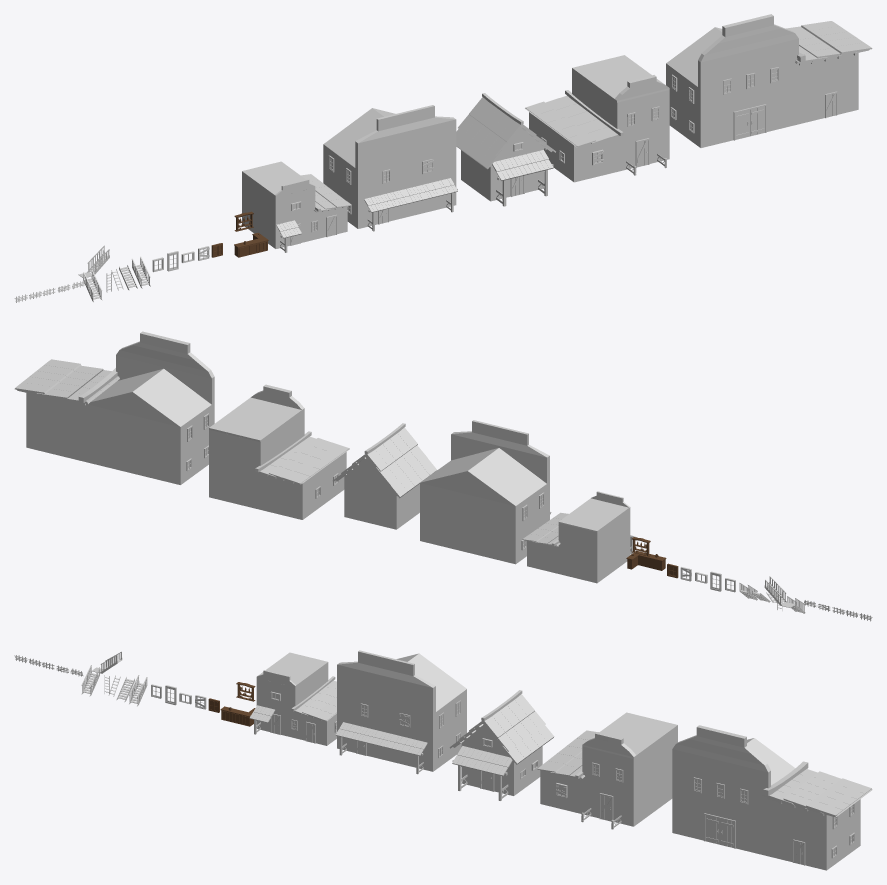
File: modelos cowboy semana 1 - luana.fbx
The picture shows the model from 3 angles, top to bottom: view 1: azimuth 30°, elevation 25°; view 2: azimuth 150°, elevation 25°; view 3: azimuth 330°, elevation 25°; orthographic projection. The views are drawn at different scales.
Parts seen in each view (by area): view 1: casa.004, casa.001, casa.003, casa.002, casa, bar, escada dupla; view 2: casa.004, casa.001, casa.003, casa, casa.002, bar, escada dupla; view 3: casa.004, casa.001, casa.003, casa.002, casa, bar, escada dupla.
Part boxes in pixels (left/top/right/bottom): casa.004: left=666, top=14, right=872, bottom=147; casa.001: left=323, top=105, right=457, bottom=231; casa.003: left=525, top=55, right=669, bottom=182; casa.002: left=456, top=93, right=555, bottom=206; casa: left=242, top=161, right=351, bottom=252; bar: left=234, top=211, right=268, bottom=257; escada dupla: left=78, top=245, right=109, bottom=301; casa.004: left=14, top=331, right=214, bottom=484; casa.001: left=420, top=420, right=551, bottom=564; casa.003: left=209, top=384, right=349, bottom=519; casa: left=522, top=491, right=636, bottom=583; casa.002: left=332, top=423, right=436, bottom=529; bar: left=626, top=537, right=666, bottom=570; escada dupla: left=764, top=576, right=805, bottom=613; casa.004: left=672, top=725, right=872, bottom=870; casa.001: left=335, top=650, right=466, bottom=774; casa.003: left=537, top=712, right=677, bottom=829; casa.002: left=449, top=690, right=554, bottom=800; casa: left=249, top=652, right=336, bottom=745; bar: left=220, top=682, right=255, bottom=726; escada dupla: left=81, top=651, right=122, bottom=696.
Size of the model in its own units: 57635 by 7860 by 6931.
